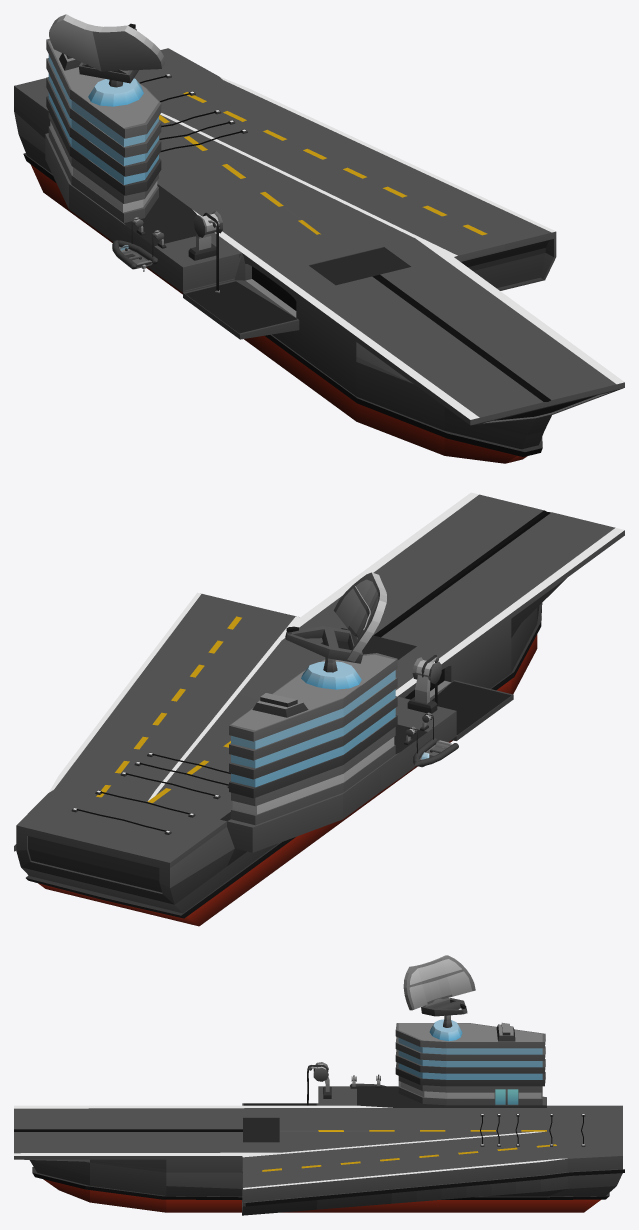
Rendered from low-poly_aircraft_carrier.glb.
3 views of the same model, one above another, from view 1: azimuth 30°, elevation 25°; view 2: azimuth 150°, elevation 25°; view 3: azimuth 270°, elevation 25° (orthographic). The views are drawn at different scales.
Visible parts, largest first — view 1: Boat; view 2: Boat; view 3: Boat.
Boxes of the visible parts, left/top/right/bottom form: Boat: left=14, top=14, right=624, bottom=463; Boat: left=14, top=492, right=624, bottom=926; Boat: left=14, top=955, right=624, bottom=1215.
Bounding box in the file's own units: 7.03 × 5.31 × 16.19.
Materials: 15 (15 with a texture image).
